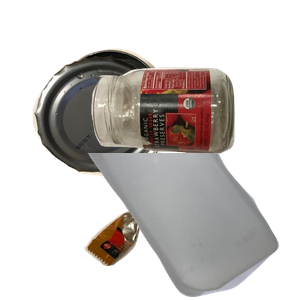glass: (89, 65, 300, 212)
metal: (30, 46, 205, 215)
plastic: (84, 153, 300, 300)
trash: (82, 151, 260, 300)
